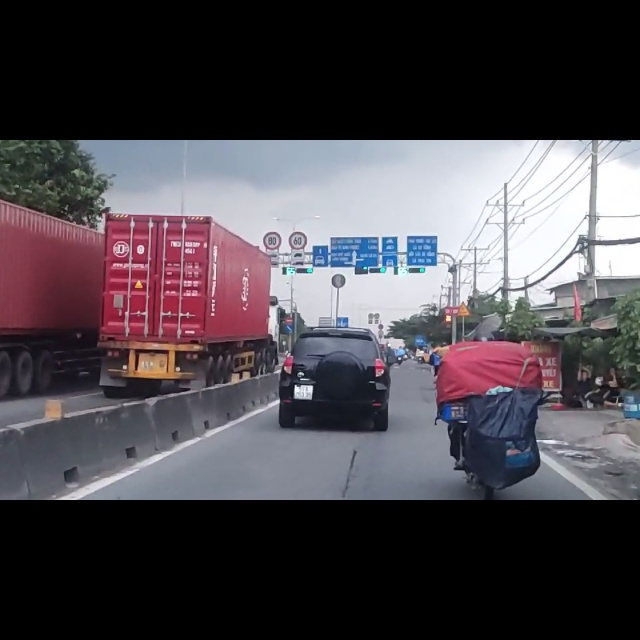bien_nguy_hiem: (288, 159, 308, 197), (263, 160, 283, 197), (456, 287, 471, 313), (285, 328, 293, 341), (285, 315, 293, 327)
